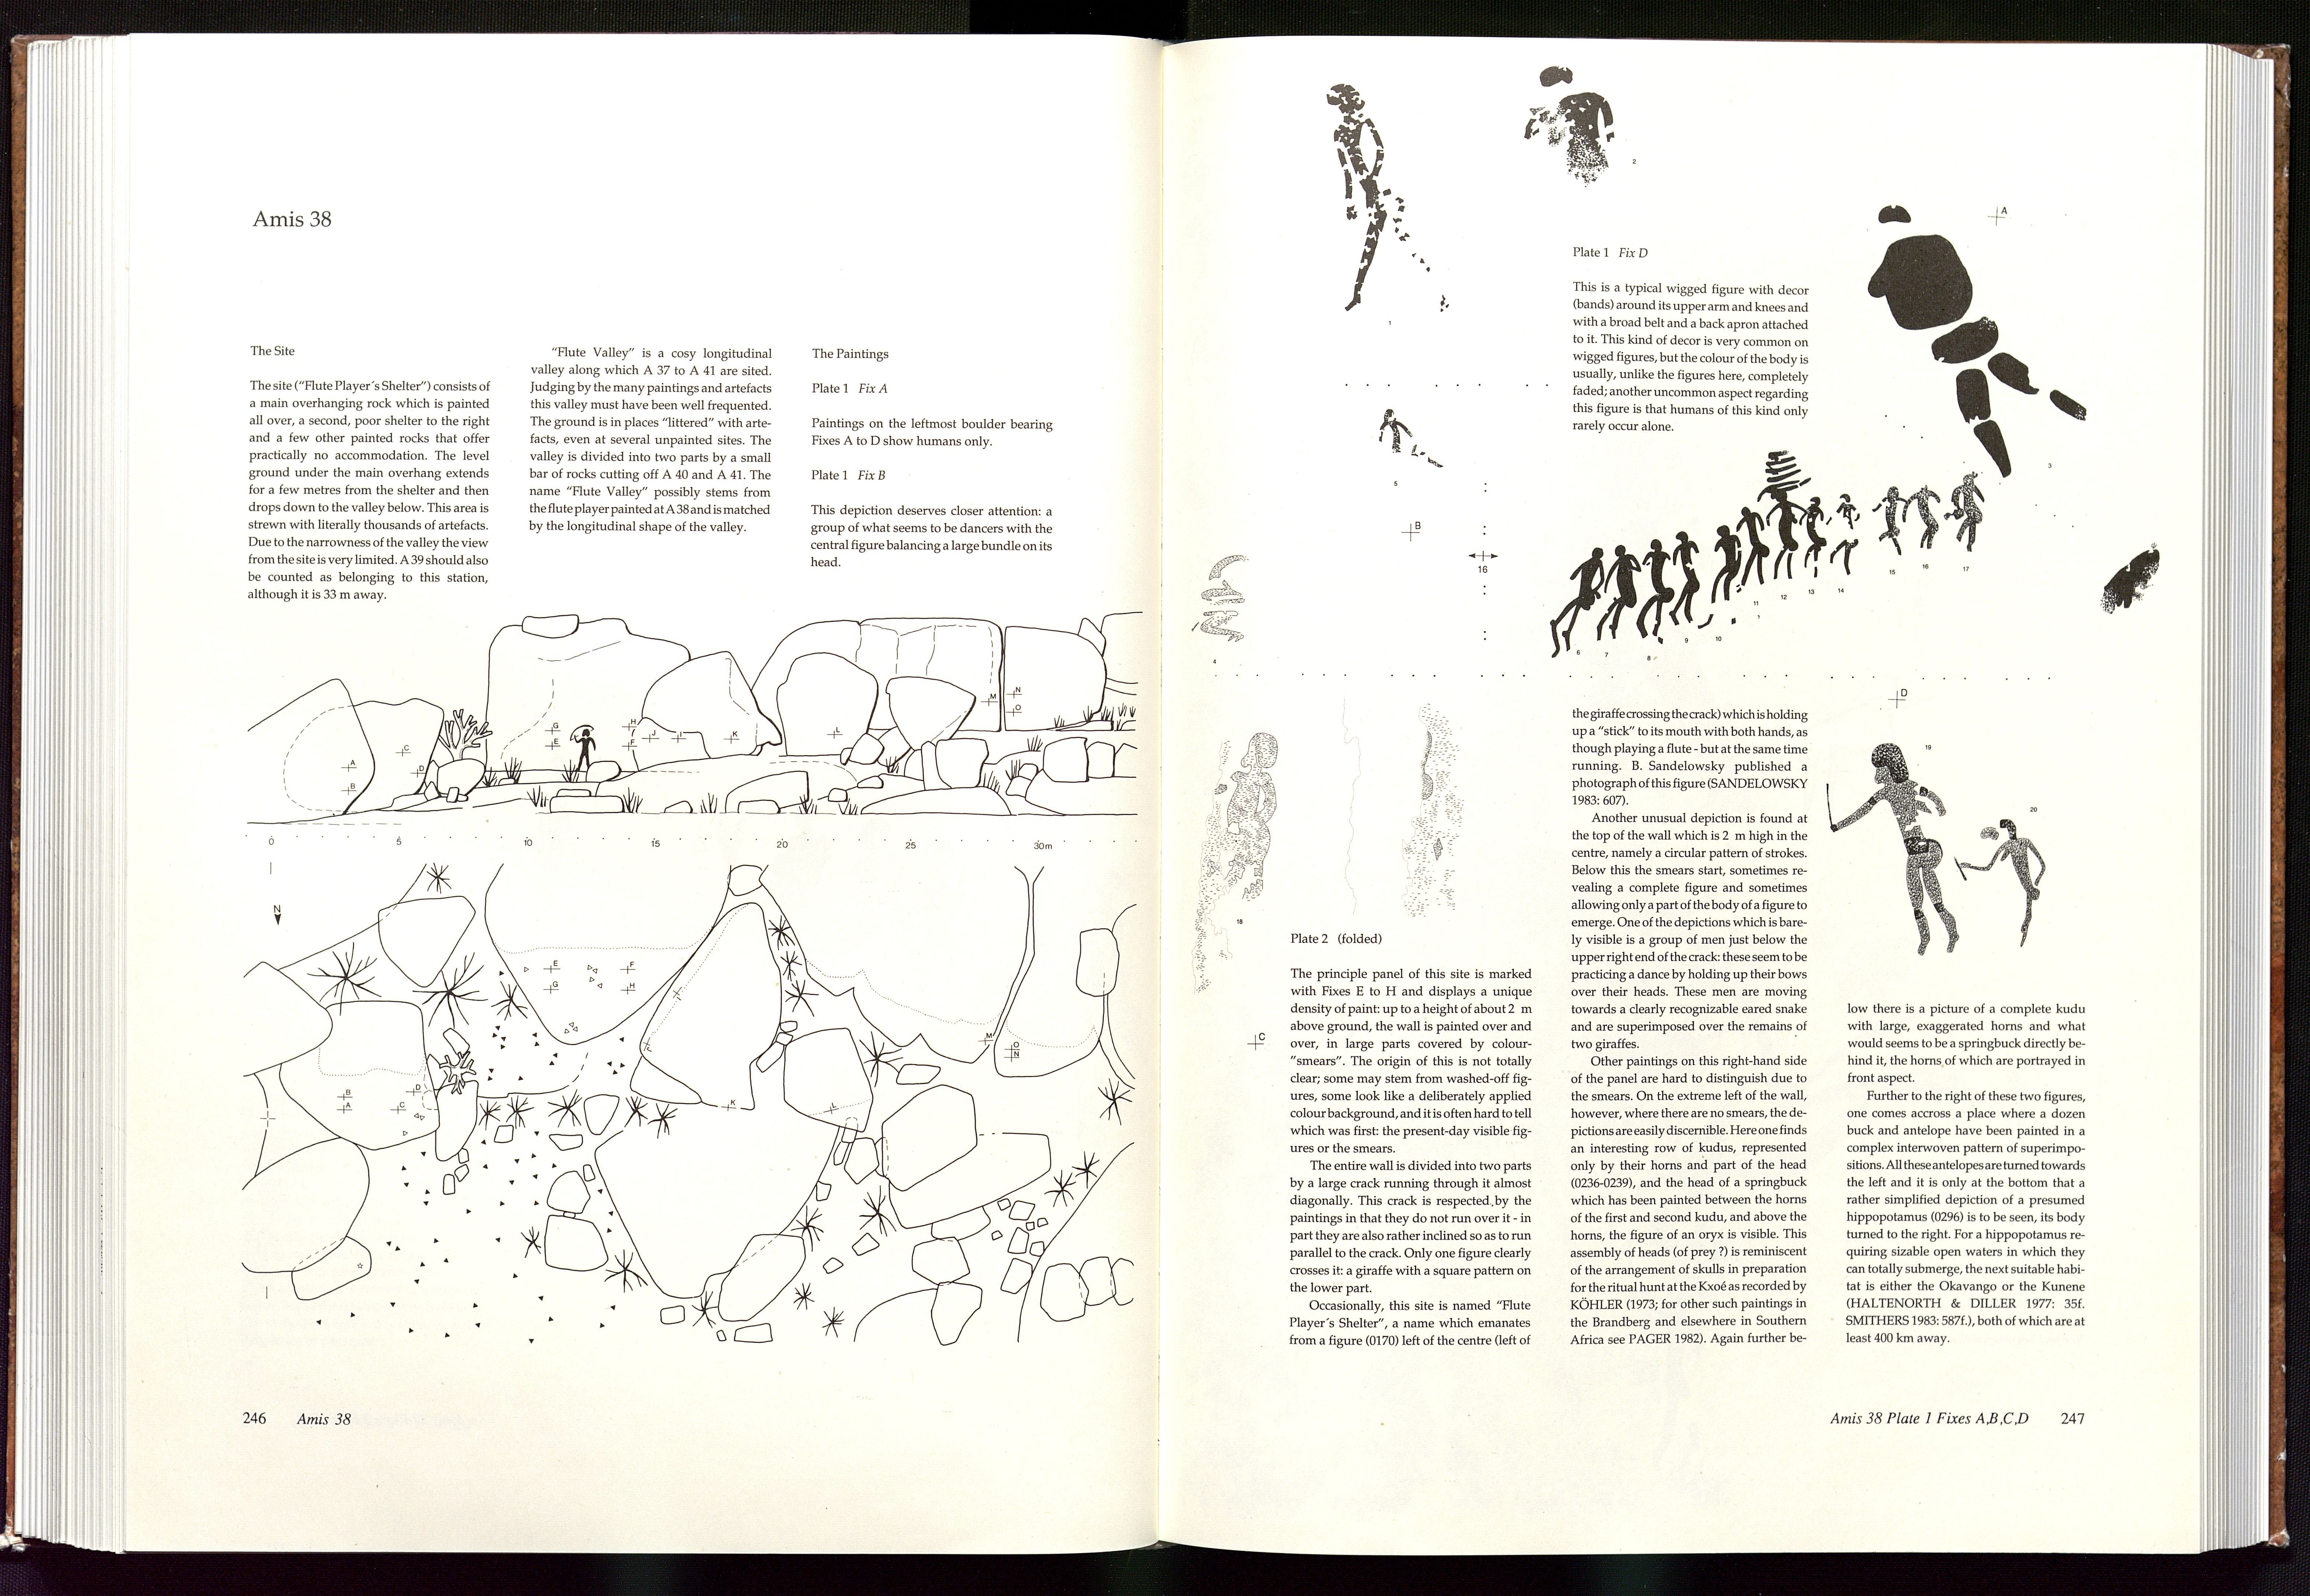human: (1856, 183, 2109, 482), (1313, 82, 1453, 342), (1816, 738, 1969, 959), (1512, 53, 1640, 195), (1959, 809, 2060, 951), (1539, 536, 1605, 654), (1699, 512, 1750, 622), (1757, 482, 1807, 595), (1632, 536, 1682, 644), (1595, 541, 1642, 647), (1937, 475, 1991, 563), (1735, 495, 1777, 605), (1669, 539, 1708, 637), (1907, 475, 1947, 563), (1873, 482, 1907, 563), (1797, 495, 1831, 573)
